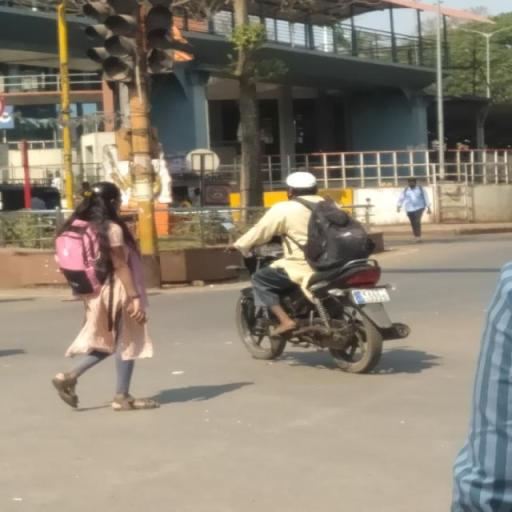bike: (216, 166, 414, 376)
withouthelmet: (286, 172, 315, 196)
